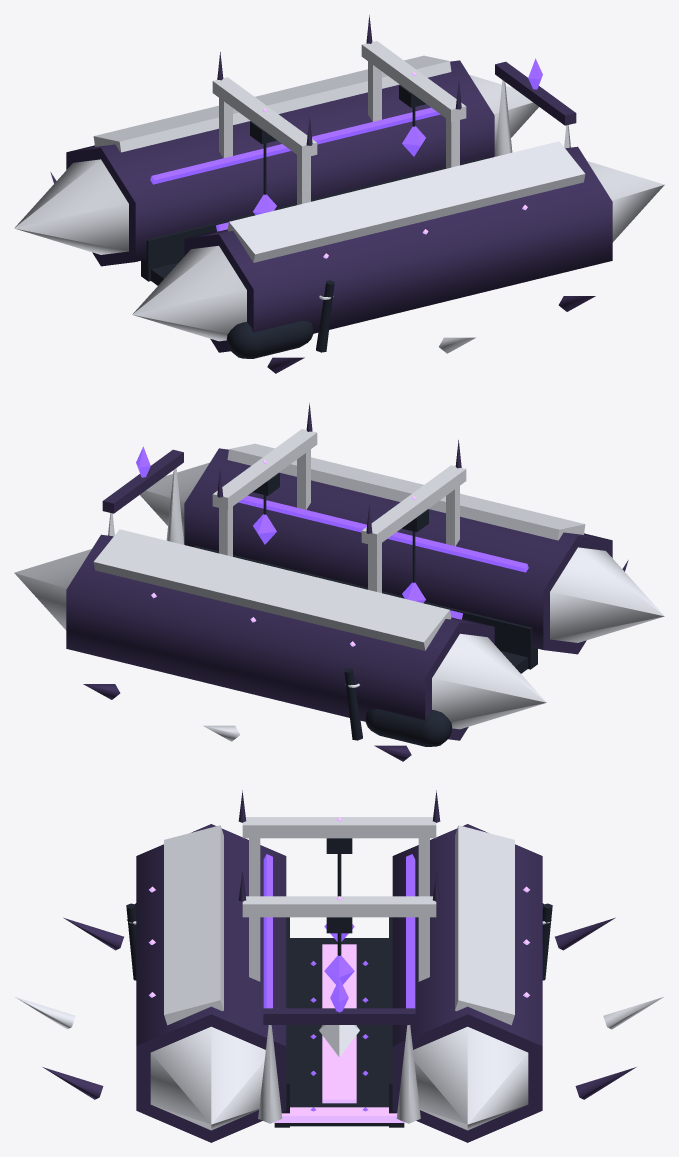
The model's file is foundry-hadron.glb.
The picture shows the model from 3 angles, top to bottom: view 1: azimuth 30°, elevation 25°; view 2: azimuth 150°, elevation 25°; view 3: azimuth 270°, elevation 25°; orthographic projection. The views are drawn at different scales.
Parts seen in each view (by area): view 1: wing_hull_l, wing_hull_r, wing_crest_l, wing_stern_r, wing_stern_l, wing_crest_r, gantry_beam_0, gantry_beam_1, wing_ridge_r, wing_bow_l, ballast_tank_l, bay_lip_r (+8 smaller); view 2: wing_hull_r, wing_hull_l, wing_crest_r, wing_stern_l, wing_stern_r, wing_crest_l, gantry_beam_0, gantry_beam_1, wing_ridge_l, wing_bow_r, ballast_tank_r, bay_lip_l (+8 smaller); view 3: wing_hull_r, wing_hull_l, wing_crest_r, wing_crest_l, bay_floor, wing_bow_r, wing_bow_l, gantry_beam_0, gantry_beam_1, forge_line, gate_crossbeam, gate_threshold (+20 smaller).
Boxes of the visible parts, x1=… form: wing_hull_l: x1=184, y1=146, x2=612, y2=352; wing_hull_r: x1=66, y1=60, x2=494, y2=266; wing_crest_l: x1=227, y1=141, x2=585, y2=262; wing_stern_r: x1=14, y1=159, x2=128, y2=254; wing_stern_l: x1=132, y1=245, x2=246, y2=341; wing_crest_r: x1=93, y1=55, x2=451, y2=152; gantry_beam_0: x1=212, y1=77, x2=317, y2=158; gantry_beam_1: x1=361, y1=41, x2=466, y2=121; wing_ridge_r: x1=150, y1=102, x2=461, y2=184; wing_bow_l: x1=587, y1=161, x2=664, y2=242; ballast_tank_l: x1=226, y1=321, x2=313, y2=358; bay_lip_r: x1=141, y1=157, x2=484, y2=281; wing_hull_r: x1=66, y1=534, x2=494, y2=740; wing_hull_l: x1=184, y1=448, x2=612, y2=654; wing_crest_r: x1=93, y1=529, x2=451, y2=650; wing_stern_l: x1=550, y1=547, x2=664, y2=642; wing_stern_r: x1=432, y1=633, x2=546, y2=729; wing_crest_l: x1=227, y1=443, x2=585, y2=540; gantry_beam_0: x1=361, y1=465, x2=466, y2=546; gantry_beam_1: x1=212, y1=429, x2=317, y2=509; wing_ridge_l: x1=217, y1=490, x2=528, y2=572; wing_bow_r: x1=14, y1=549, x2=91, y2=630; ballast_tank_r: x1=365, y1=709, x2=452, y2=746; bay_lip_l: x1=194, y1=545, x2=537, y2=669; wing_hull_r: x1=392, y1=824, x2=542, y2=1142; wing_hull_l: x1=136, y1=824, x2=286, y2=1142; wing_crest_r: x1=455, y1=825, x2=514, y2=1025; wing_crest_l: x1=164, y1=825, x2=223, y2=1025; bay_floor: x1=290, y1=938, x2=388, y2=1126; wing_bow_r: x1=413, y1=1026, x2=528, y2=1130; wing_bow_l: x1=150, y1=1026, x2=265, y2=1130; gantry_beam_0: x1=242, y1=817, x2=436, y2=838; gantry_beam_1: x1=242, y1=896, x2=436, y2=917; forge_line: x1=322, y1=944, x2=356, y2=1103; gate_crossbeam: x1=263, y1=1008, x2=415, y2=1024; gate_threshold: x1=273, y1=1107, x2=405, y2=1122.
Size of the model in its own units: 320 by 115 by 312.
